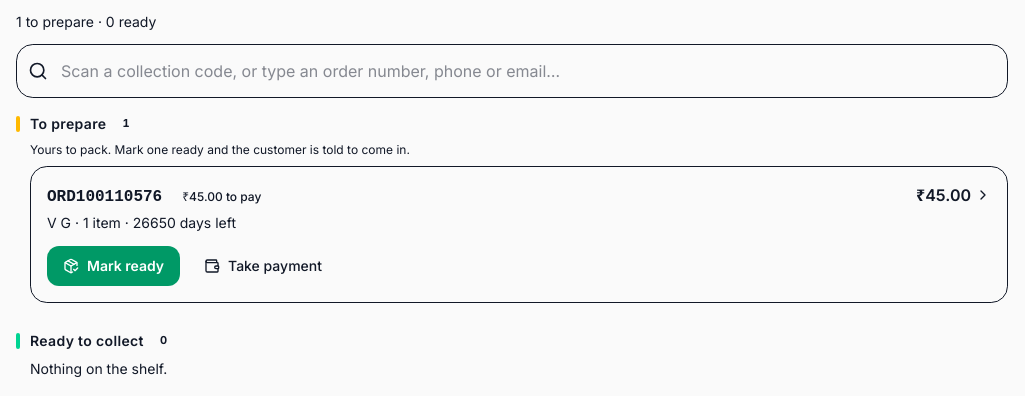
Test: pickup queue — marking an order ready › moves the confirmed row into Ready to collect without a reload
The image size is (1025, 396).
Check: the text "1" is shown, box x1=122 y1=116 x2=130 y2=130
Check: the text "0" is shown, box x1=160 y1=333 x2=167 y2=347
Click the button "Mark ready". click: (114, 266)
box: x1=47 y1=246 x2=180 y2=286
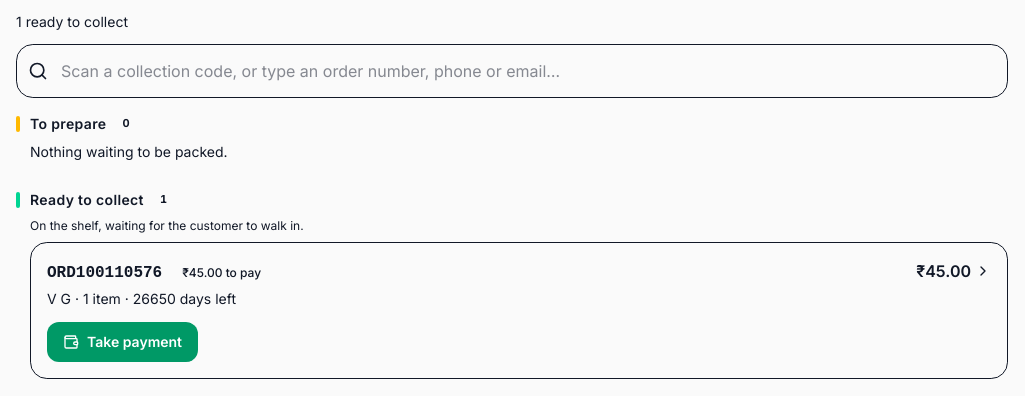
Check: the text "0" is shown, box x1=122 y1=116 x2=130 y2=130
Check: the button "Mark ready" is gone
